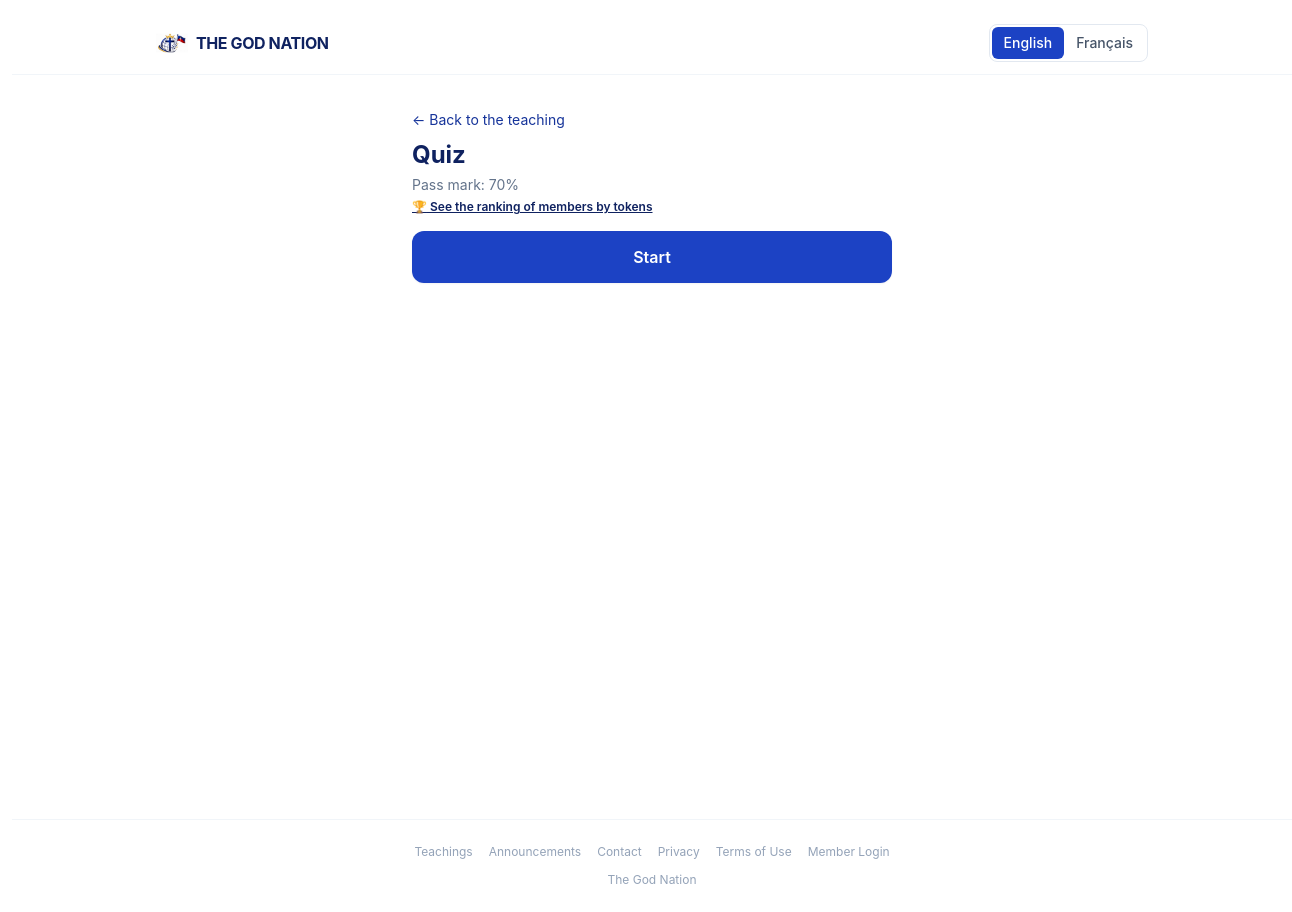
Scenario: Back to the teaching after its quiz › counts down and goes back to the teaching, with a way to stay
This screenshot has width=1292, height=912.
Later steps or results of the test are not shown.
Click the button "Start". click: {"x": 652, "y": 257}
box: [412,231,892,283]
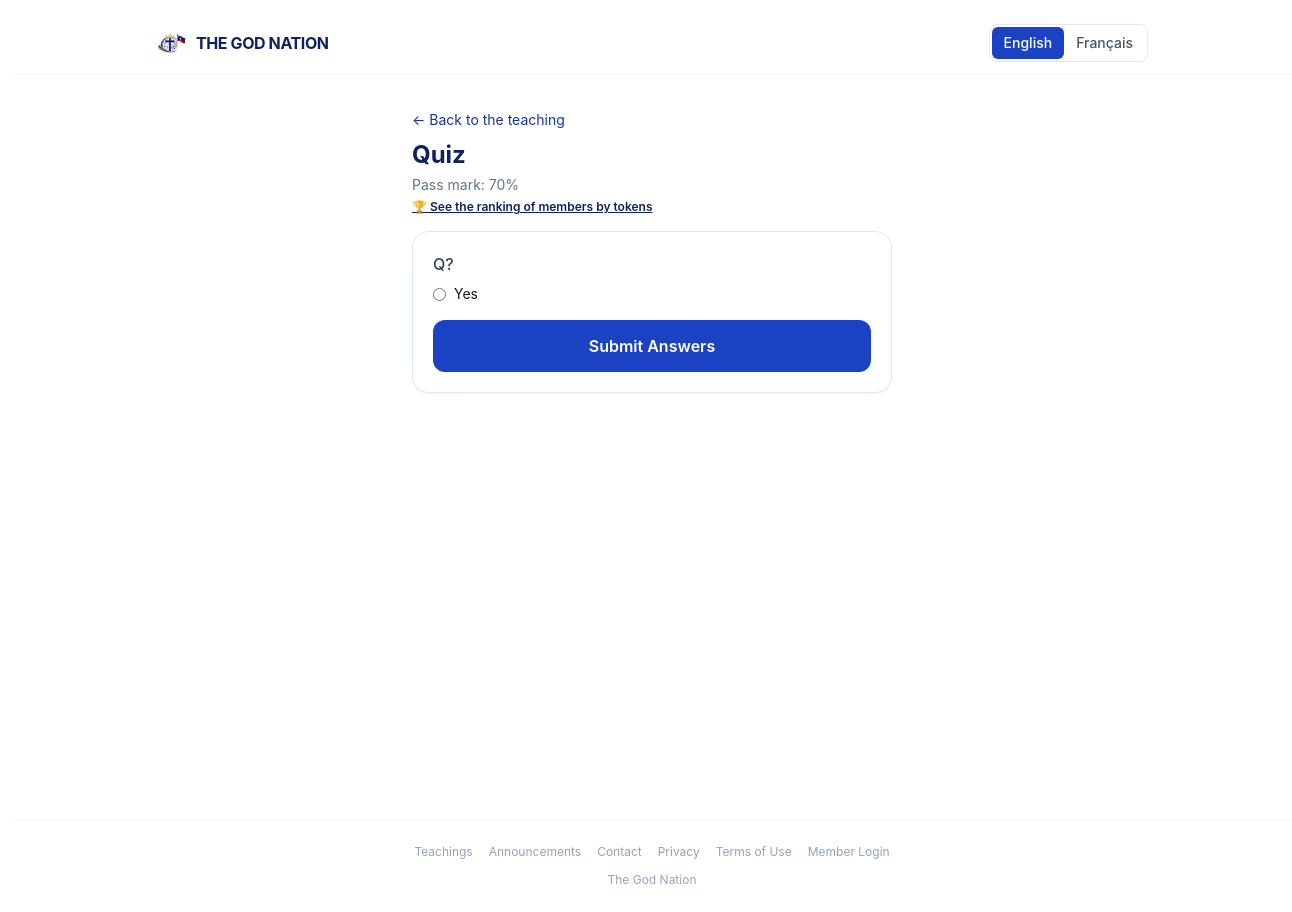
Click the radio button labelled "Yes". click: {"x": 440, "y": 294}
box: [433,288,446,300]
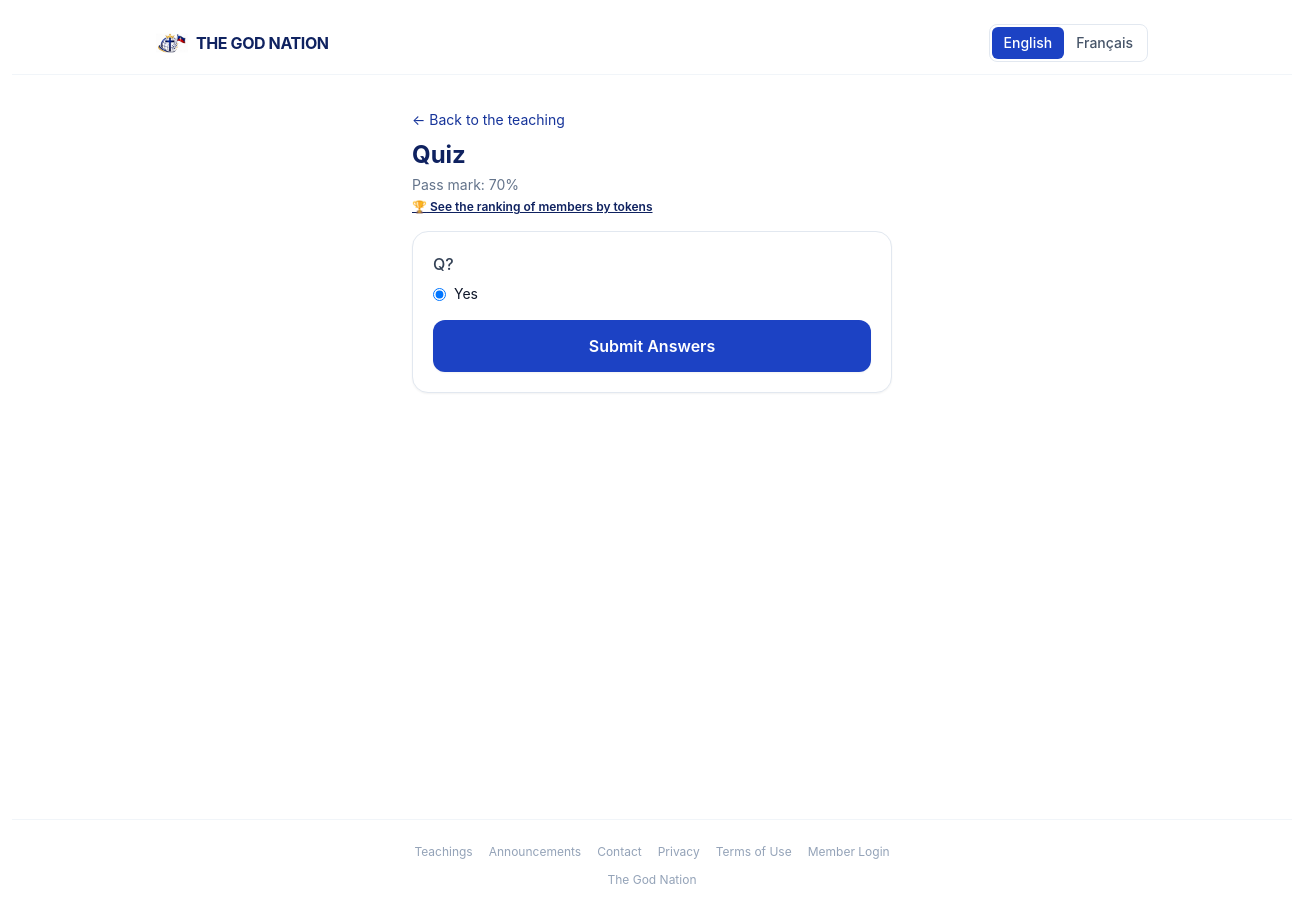
Click the button "Submit Answers". click: {"x": 652, "y": 346}
box: [433,320,871,372]
Wait 32000 ms
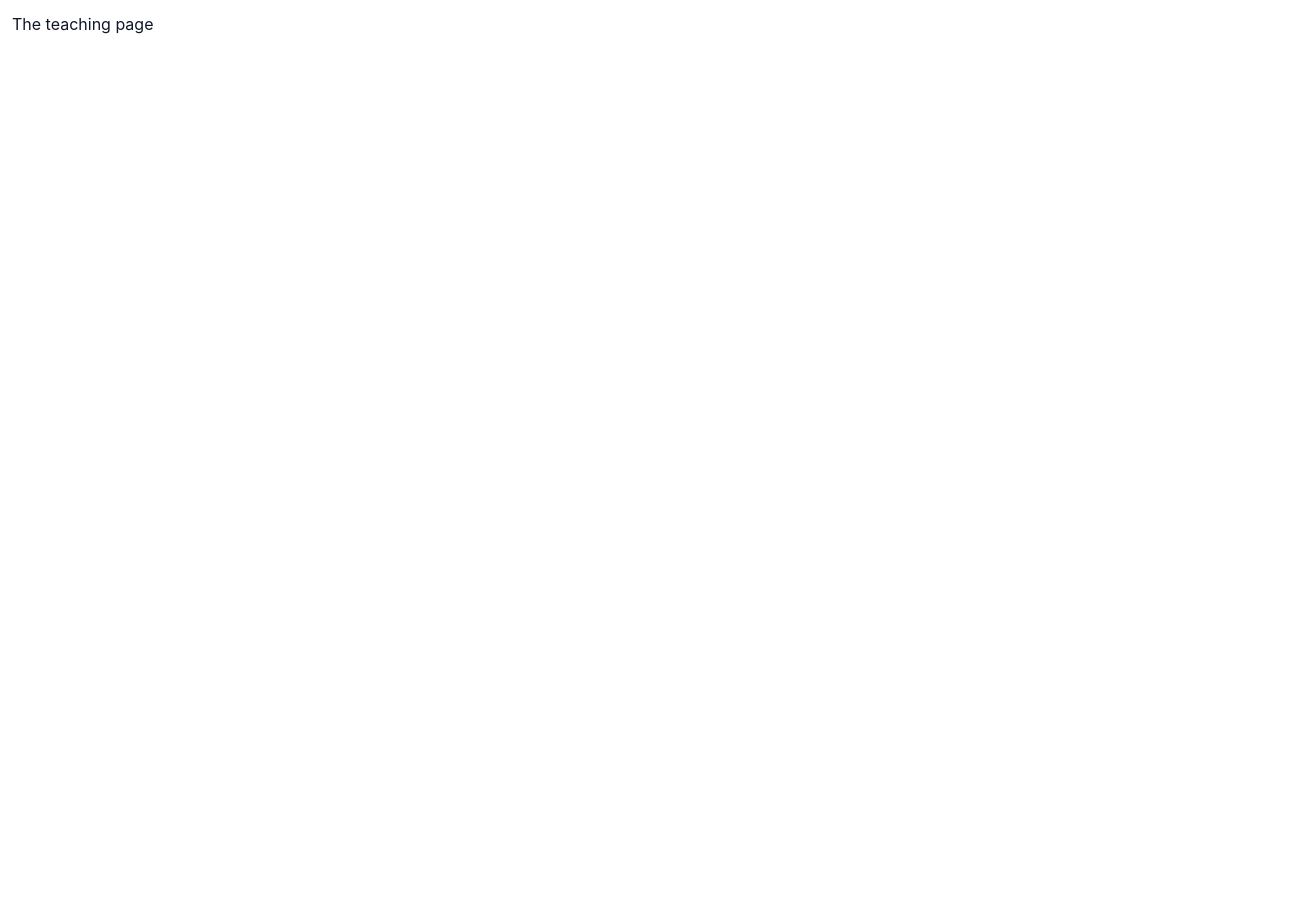
Now the text "The teaching page" is shown, box [12,14,154,34]
